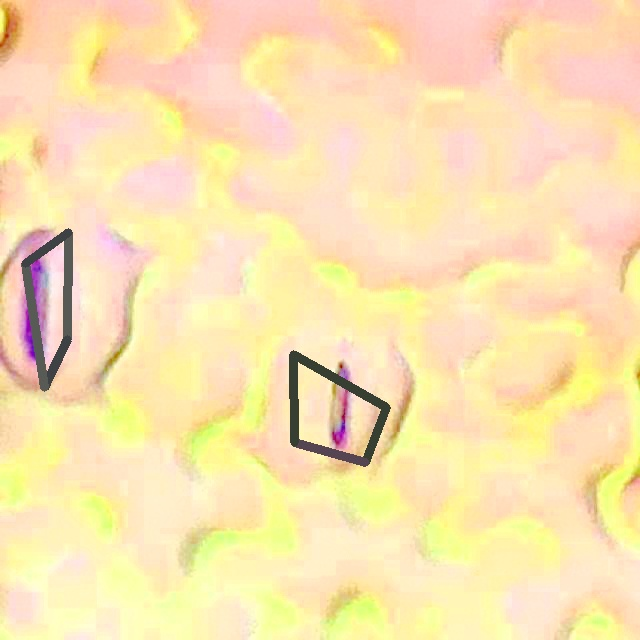open: (290, 351, 389, 466), (21, 228, 71, 391)
